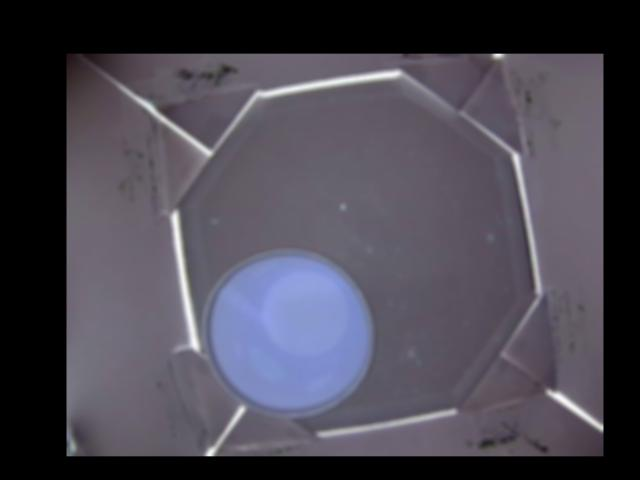Cup: (200, 249, 376, 415)
